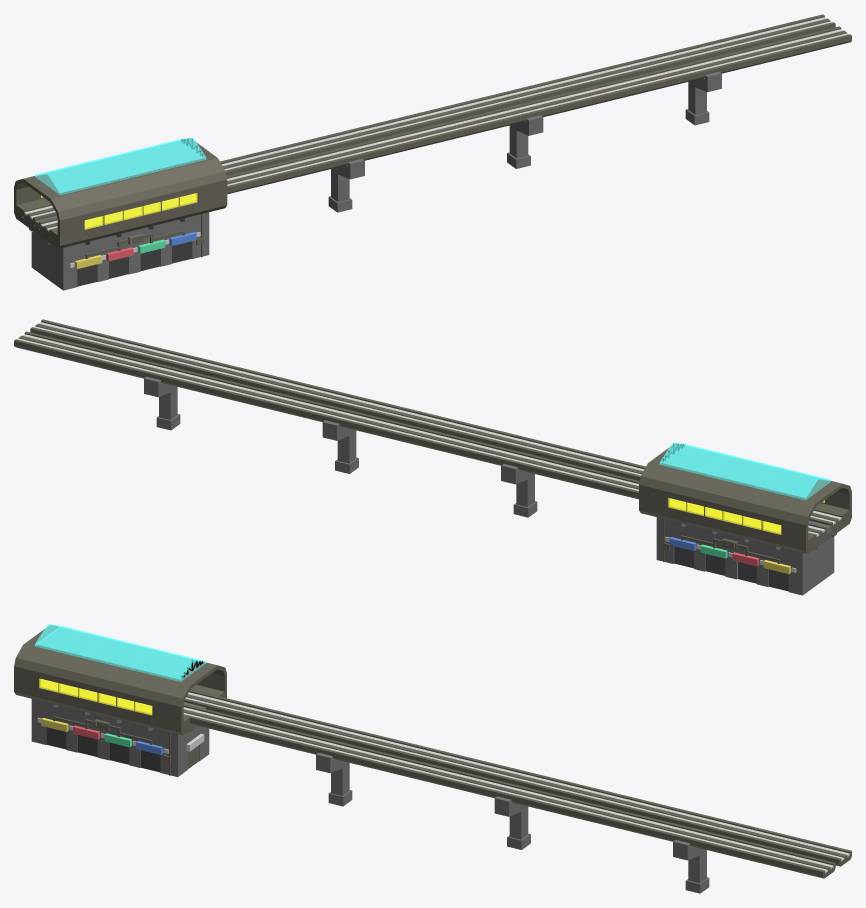
Rendered from metroStation.fbx.
3 views of the same model, one above another, from view 1: azimuth 30°, elevation 25°; view 2: azimuth 150°, elevation 25°; view 3: azimuth 330°, elevation 25° (orthographic).
Visible parts, largest first — view 1: metroStation; view 2: metroStation; view 3: metroStation.
Part boxes in pixels (left/top/right/bottom): metroStation: left=14, top=14, right=851, bottom=290; metroStation: left=14, top=319, right=851, bottom=595; metroStation: left=14, top=624, right=851, bottom=893.
Size of the model in its own units: 20257 by 2558 by 2011.
